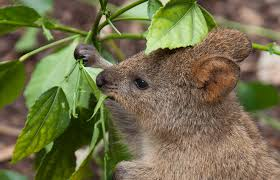quokka: (74, 19, 262, 180)
